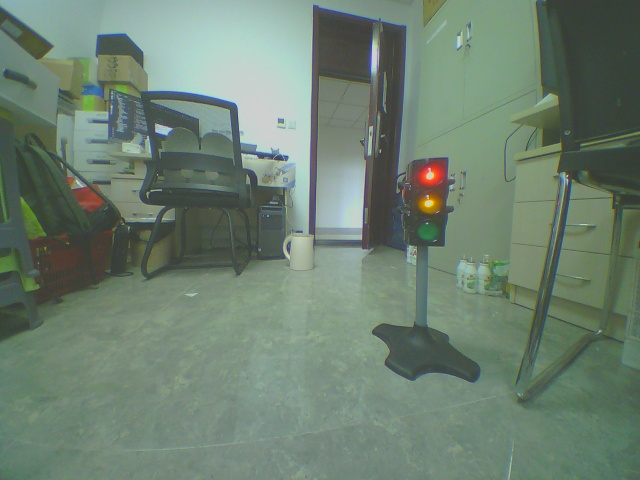Red_Yellow: (389, 149, 479, 255)
